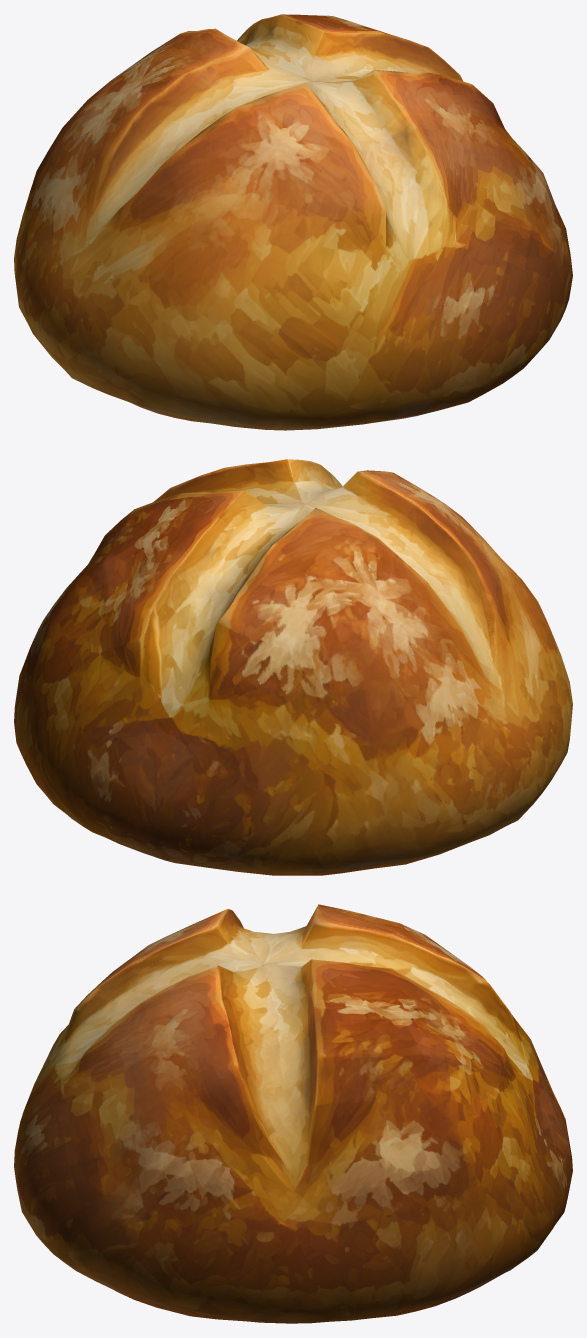
The model's file is Item_FoodBread.fbx.
The picture shows the model from 3 angles, top to bottom: view 1: azimuth 30°, elevation 25°; view 2: azimuth 150°, elevation 25°; view 3: azimuth 270°, elevation 25°; orthographic projection.
Parts seen in each view (by area): view 1: texture_mapping; view 2: texture_mapping; view 3: texture_mapping.
Part boxes in pixels (left/top/right/bottom): texture_mapping: left=14, top=14, right=572, bottom=430; texture_mapping: left=14, top=459, right=572, bottom=875; texture_mapping: left=14, top=904, right=572, bottom=1323.
Bounding box in the file's own units: 0.9997 × 0.9962 × 0.5821.
1 material, 1 textured.
